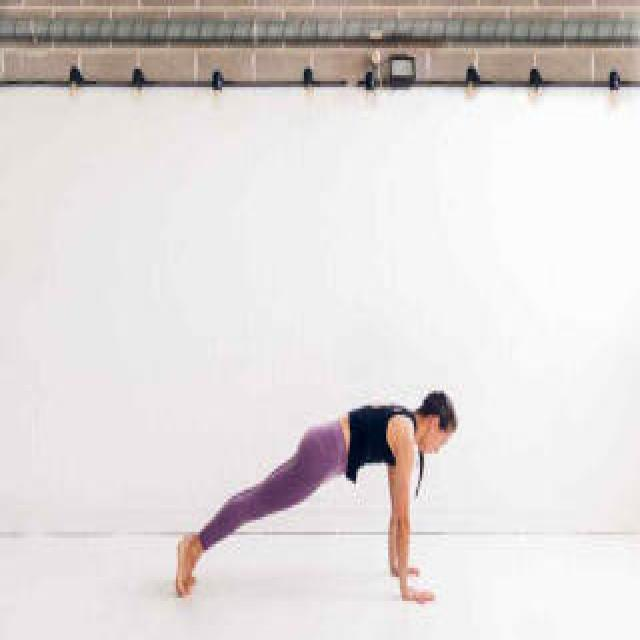yoga-pose plank: (174, 388, 460, 607)
